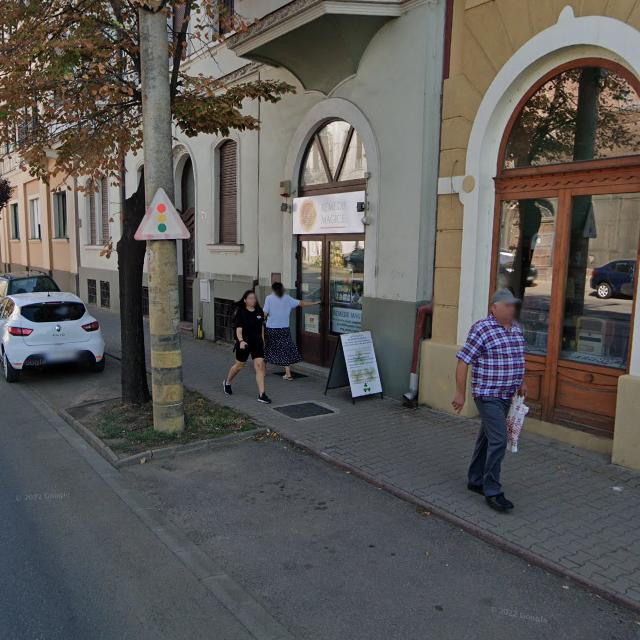warn_traffic_light: (133, 188, 191, 240)
